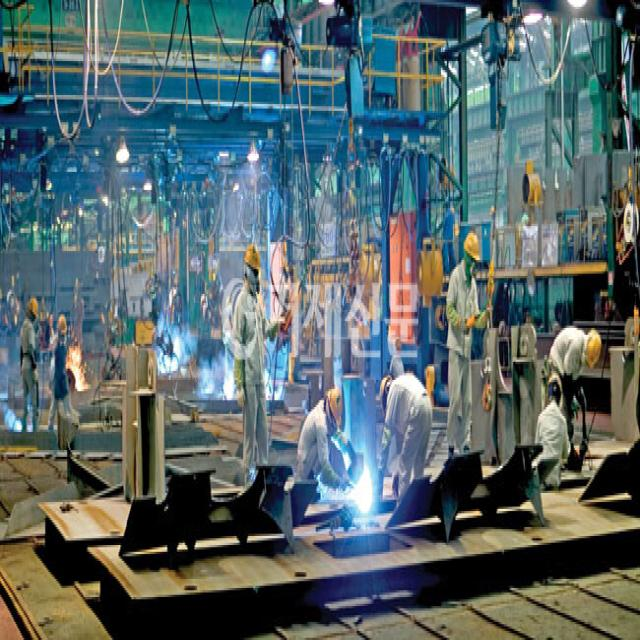welding: (357, 468, 377, 520), (161, 338, 181, 377), (266, 373, 285, 402), (222, 370, 234, 400), (10, 409, 25, 432)
